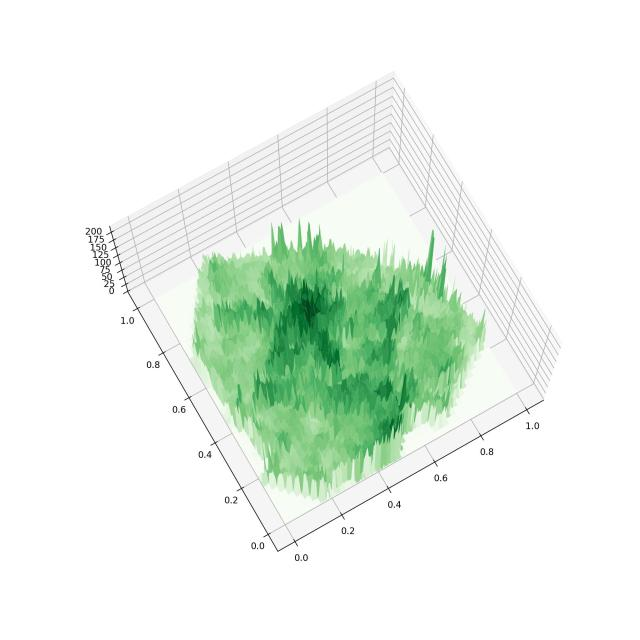spruce: (61, 56, 572, 582)
